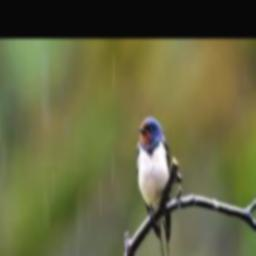Swallow: (135, 117, 171, 256)
